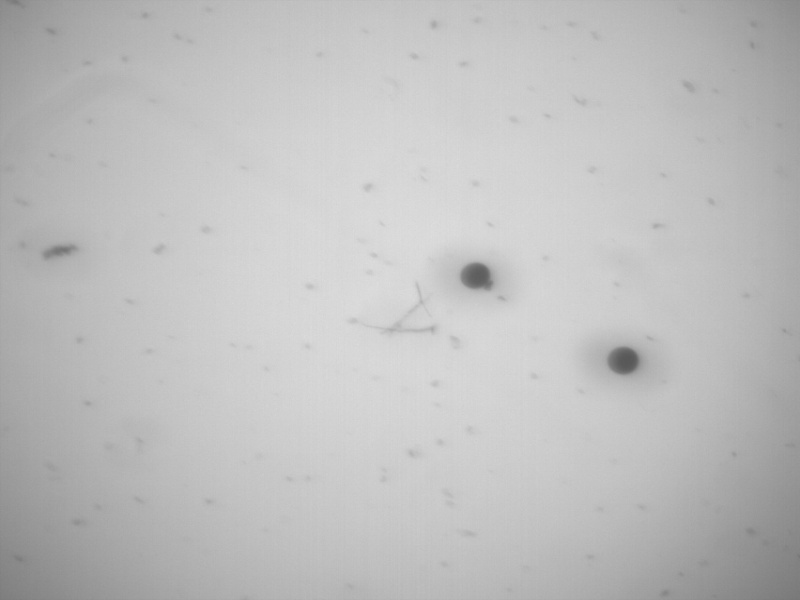bead: (606, 345, 641, 376), (459, 261, 492, 292)
fiber: (377, 290, 438, 337), (356, 319, 442, 336), (414, 280, 433, 318)
